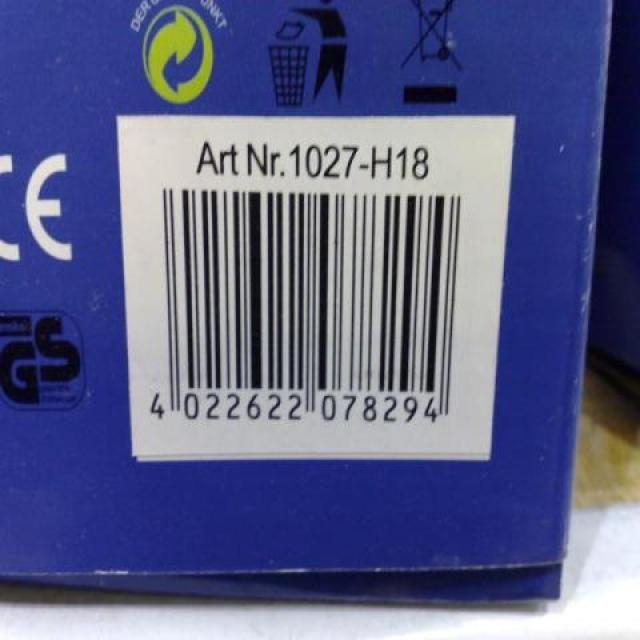Barcode: (116, 115, 517, 460)
